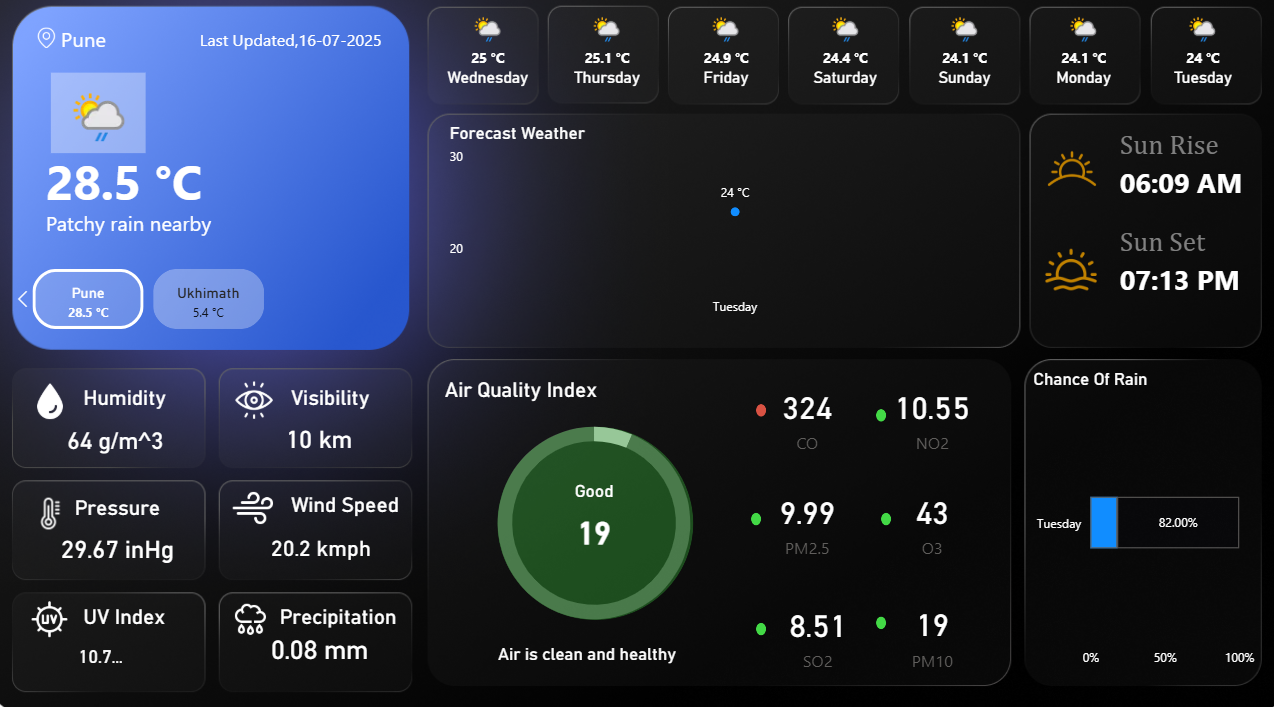

The page's visual inventory and layout, read from the dashboard file:
{"tool":"powerbi","page":{"name":"Page 1","canvas":[1280,720],"ordinal":0},"visuals":[{"type":"advancedSlicerVisual","fields":{"Values":["Location.location.name"]},"box":[20.9,274.8,397.5,69.9],"z":0},{"type":"shape","box":[58.9,136.2,245.4,114.1],"z":1000},{"type":"shape","box":[58.9,218.4,349.7,31.9],"z":2000},{"type":"shape","box":[73.6,38,99.4,31.9],"z":3000},{"type":"shape","box":[209.8,38,189,31.9],"z":4000},{"type":"image","box":[22.1,38,73.6,29.4],"z":5000},{"type":"cardVisual","fields":{"Data":["Min(current.current.condition.icon)"]},"box":[58.9,82.2,103.1,89.6],"z":6000},{"type":"advancedSlicerVisual","fields":{"Values":["forcast_day.day_name"]},"box":[429.5,22.1,831.9,96.9],"z":7000},{"type":"lineChart","title":"Forecast Weather","fields":{"Category":["forcast_day.day_name"],"Y":["Sum(forcast_day.forecast.forecastday.day.avgtemp_c)"]},"box":[450.3,136.2,547.4,199.3],"z":8000},{"type":"shape","box":[1112.5,162.7,137.5,63.1],"z":9000},{"type":"shape","box":[1112.5,257.3,137.5,63.1],"z":10000},{"type":"shape","title":"Sun Rise","box":[1112.5,143.8,157.7,36.6],"z":11000},{"type":"shape","title":"Sun Set","box":[1112.5,239.7,167.8,35.3],"z":12000},{"type":"image","box":[1017.9,145.1,94.6,73.2],"z":13000},{"type":"image","box":[1014.1,249.7,103.4,60.5],"z":14000},{"type":"hundredPercentStackedBarChart","title":"Chance Of Rain","fields":{"Y":["current.left_value_rain","Sum(forcast_day.forecast.forecastday.day.daily_chance_of_rain)"],"Category":["forcast_day.day_name"]},"box":[1022.9,378.4,227,301.5],"z":15000},{"type":"shape","title":"Humidity ","box":[95.7,393.9,109.2,30.7],"z":16000},{"type":"cardVisual","fields":{"Data":["_measures.humidity"]},"box":[62.5,410,142.5,65],"z":17000},{"type":"shape","title":"Pressure","box":[87.5,501.2,108.8,30],"z":18000},{"type":"shape","title":"Wind Speed","box":[299.4,499.4,109.2,30.7],"z":19000},{"type":"shape","title":"Visibility ","box":[299.4,393.9,109.2,30.7],"z":20000},{"type":"shape","title":"UV Index","box":[95.7,608.6,109.2,30.7],"z":21000},{"type":"shape","title":"Precipitation ","box":[288.8,608.8,120,30],"z":22000},{"type":"image","box":[15,600,95,47.5],"z":23000},{"type":"image","box":[233.8,488.8,55,52.5],"z":24000},{"type":"image","box":[37.5,386.2,50,46.2],"z":25000},{"type":"image","box":[233.8,385,57.5,46.2],"z":26000},{"type":"image","box":[216.2,600,87.5,47.5],"z":27000},{"type":"image","box":[35,500,55,41.2],"z":28000},{"type":"cardVisual","fields":{"Data":["_measures.visibility"]},"box":[277.5,408.8,121.2,65],"z":29000},{"type":"cardVisual","fields":{"Data":["_measures.wind_kph"]},"box":[262.5,516.2,146.2,65],"z":30000},{"type":"cardVisual","fields":{"Data":["_measures.preci"]},"box":[262.5,615,132.5,65],"z":31000},{"type":"cardVisual","fields":{"Data":["_measures.uv_"]},"box":[73.8,623.8,131.2,65],"z":32000},{"type":"cardVisual","fields":{"Data":["_measures.pressure"]},"box":[56.2,516.2,148.8,65],"z":33000},{"type":"shape","title":"Air Quality Index","box":[450,386.2,222.5,31.2],"z":34000},{"type":"card","fields":{"Values":["Sum(current.current.air_quality.no2)"]},"box":[878.8,385,101.2,80],"z":35000},{"type":"card","fields":{"Values":["Sum(current.current.air_quality.o3)"]},"box":[878.8,488.8,101.2,80],"z":36000},{"type":"card","fields":{"Values":["Sum(current.current.air_quality.co)"]},"box":[756.2,385,101.2,80],"z":37000},{"type":"card","fields":{"Values":["Sum(current.current.air_quality.pm2_5)"]},"box":[756.2,488.8,101.2,80],"z":38000},{"type":"card","fields":{"Values":["Sum(current.current.air_quality.so2)"]},"box":[775,598.8,82.5,81.2],"z":39000},{"type":"card","fields":{"Values":["Sum(current.current.air_quality.pm10)"]},"box":[878.8,598.8,101.2,80],"z":40000},{"type":"shape","box":[756.2,412.5,10,12.5],"z":41000},{"type":"shape","box":[751.2,518.8,10,12.5],"z":42000},{"type":"shape","box":[756.2,627.5,10,12.5],"z":43000},{"type":"shape","box":[873.8,621.2,10,12.5],"z":44000},{"type":"shape","box":[873.8,417.5,10,12.5],"z":45000},{"type":"shape","box":[878.8,518.8,10,12.5],"z":46000},{"type":"donutChart","fields":{"Y":["Sum(current.current.air_quality.pm10)","_measures.left_values"]},"box":[425,406.2,345,246.2],"z":46250},{"type":"shape","box":[501.2,433.8,192.5,190],"z":46500},{"type":"card","fields":{"Values":["Sum(current.current.air_quality.pm10)"]},"box":[527.5,487.5,138.8,81.2],"z":49000},{"type":"shape","box":[430,647.5,321.2,31.2],"z":49501}]}

Visuals, with their boxes in screenshot pixels (x1, y1, x2, y2), scaled from the page's 1280x720 canvas onto the 1274x707 screenshot:
advancedSlicerVisual - Location.location.name: x1=21 y1=270 x2=416 y2=338
shape: x1=59 y1=134 x2=303 y2=246
shape: x1=59 y1=214 x2=407 y2=246
shape: x1=73 y1=37 x2=172 y2=69
shape: x1=209 y1=37 x2=397 y2=69
image: x1=22 y1=37 x2=95 y2=66
cardVisual - Min(current.current.condition.icon): x1=59 y1=81 x2=161 y2=169
advancedSlicerVisual - forcast_day.day_name: x1=427 y1=22 x2=1255 y2=117
"Forecast Weather" lineChart: x1=448 y1=134 x2=993 y2=329
shape: x1=1107 y1=160 x2=1244 y2=222
shape: x1=1107 y1=253 x2=1244 y2=315
"Sun Rise" shape: x1=1107 y1=141 x2=1264 y2=177
"Sun Set" shape: x1=1107 y1=235 x2=1273 y2=270
image: x1=1013 y1=142 x2=1107 y2=214
image: x1=1009 y1=245 x2=1112 y2=305
"Chance Of Rain" hundredPercentStackedBarChart: x1=1018 y1=372 x2=1244 y2=668
"Humidity " shape: x1=95 y1=387 x2=204 y2=417
cardVisual - _measures.humidity: x1=62 y1=403 x2=204 y2=466
"Pressure" shape: x1=87 y1=492 x2=195 y2=522
"Wind Speed" shape: x1=298 y1=490 x2=407 y2=521
"Visibility " shape: x1=298 y1=387 x2=407 y2=417
"UV Index" shape: x1=95 y1=598 x2=204 y2=628
"Precipitation " shape: x1=287 y1=598 x2=407 y2=627
image: x1=15 y1=589 x2=109 y2=636
image: x1=233 y1=480 x2=287 y2=532
image: x1=37 y1=379 x2=87 y2=425
image: x1=233 y1=378 x2=290 y2=423
image: x1=215 y1=589 x2=302 y2=636
image: x1=35 y1=491 x2=90 y2=531
cardVisual - _measures.visibility: x1=276 y1=401 x2=397 y2=465
cardVisual - _measures.wind_kph: x1=261 y1=507 x2=407 y2=571
cardVisual - _measures.preci: x1=261 y1=604 x2=393 y2=668
cardVisual - _measures.uv_: x1=73 y1=613 x2=204 y2=676
cardVisual - _measures.pressure: x1=56 y1=507 x2=204 y2=571
"Air Quality Index" shape: x1=448 y1=379 x2=669 y2=410
card - Sum(current.current.air_quality.no2): x1=875 y1=378 x2=975 y2=457
card - Sum(current.current.air_quality.o3): x1=875 y1=480 x2=975 y2=559
card - Sum(current.current.air_quality.co): x1=753 y1=378 x2=853 y2=457
card - Sum(current.current.air_quality.pm2_5): x1=753 y1=480 x2=853 y2=559
card - Sum(current.current.air_quality.so2): x1=771 y1=588 x2=853 y2=668
card - Sum(current.current.air_quality.pm10): x1=875 y1=588 x2=975 y2=667
shape: x1=753 y1=405 x2=763 y2=417
shape: x1=748 y1=509 x2=758 y2=522
shape: x1=753 y1=616 x2=763 y2=628
shape: x1=870 y1=610 x2=880 y2=622
shape: x1=870 y1=410 x2=880 y2=422
shape: x1=875 y1=509 x2=885 y2=522
donutChart - Sum(current.current.air_quality.pm10) x _measures.left_values: x1=423 y1=399 x2=766 y2=641
shape: x1=499 y1=426 x2=690 y2=613
card - Sum(current.current.air_quality.pm10): x1=525 y1=479 x2=663 y2=558
shape: x1=428 y1=636 x2=748 y2=666
